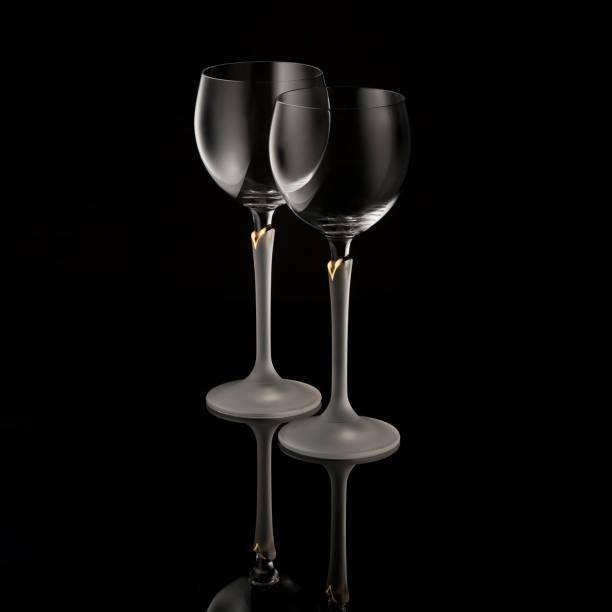glass-wine: (267, 83, 413, 464), (193, 59, 331, 421)
